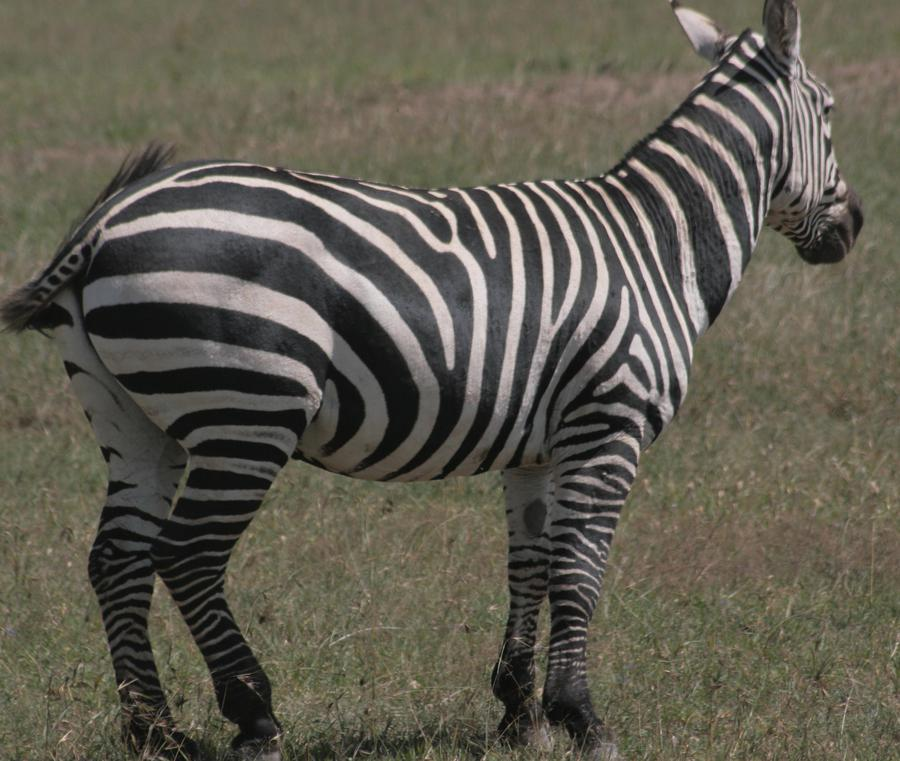zebra_plains: (162, 157, 687, 488)
